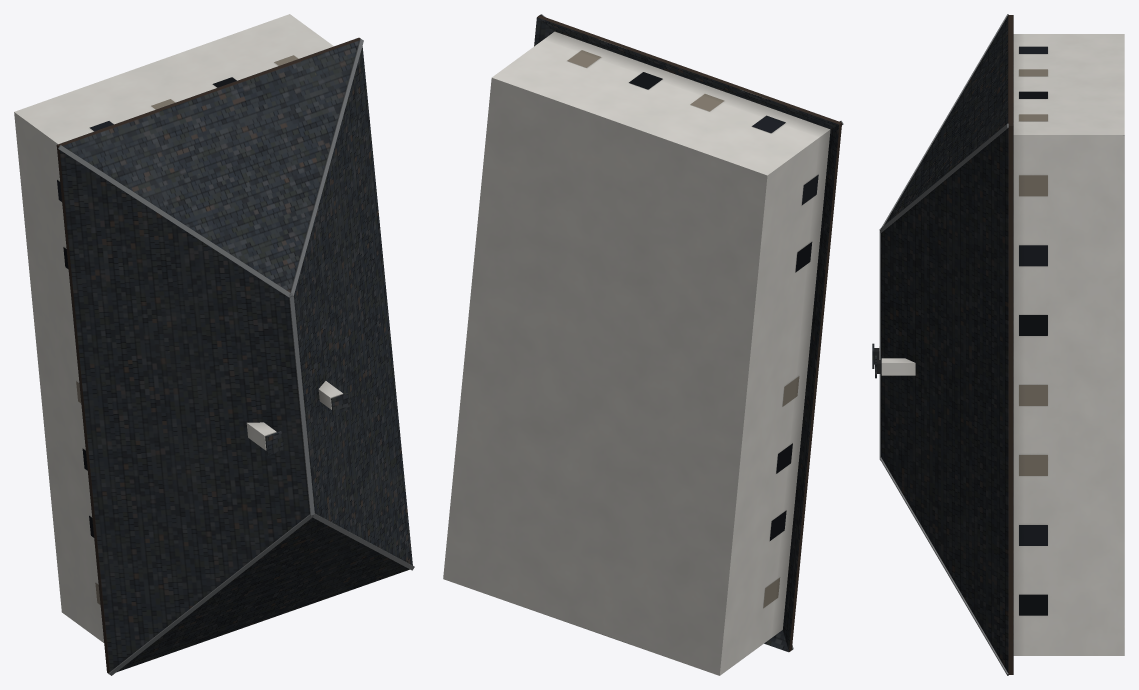
File: house_b0112.obj
3 renders of one model, left to right at view 1: azimuth 30°, elevation 25°; view 2: azimuth 150°, elevation 25°; view 3: azimuth 270°, elevation 25°, orthographic. The views are drawn at different scales.
Visible parts, largest first — view 1: house_b0112; view 2: house_b0112; view 3: house_b0112.
Part boxes in pixels (x1=…): house_b0112: x1=14, y1=14, x2=414, y2=675; house_b0112: x1=443, y1=14, x2=843, y2=675; house_b0112: x1=872, y1=14, x2=1124, y2=675.
Size of the model in its own units: 17.9 by 27.67 by 11.32.
Materials: 1 (1 with a texture image).
